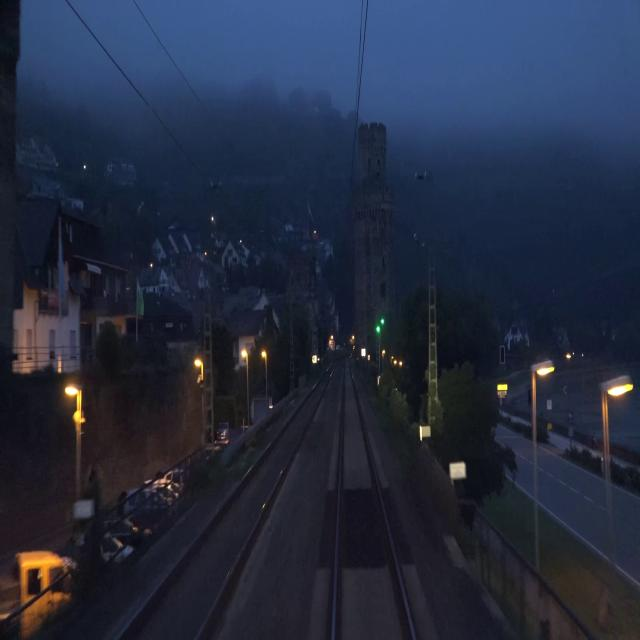rail-track: (121, 369, 330, 639), (336, 358, 412, 639)
